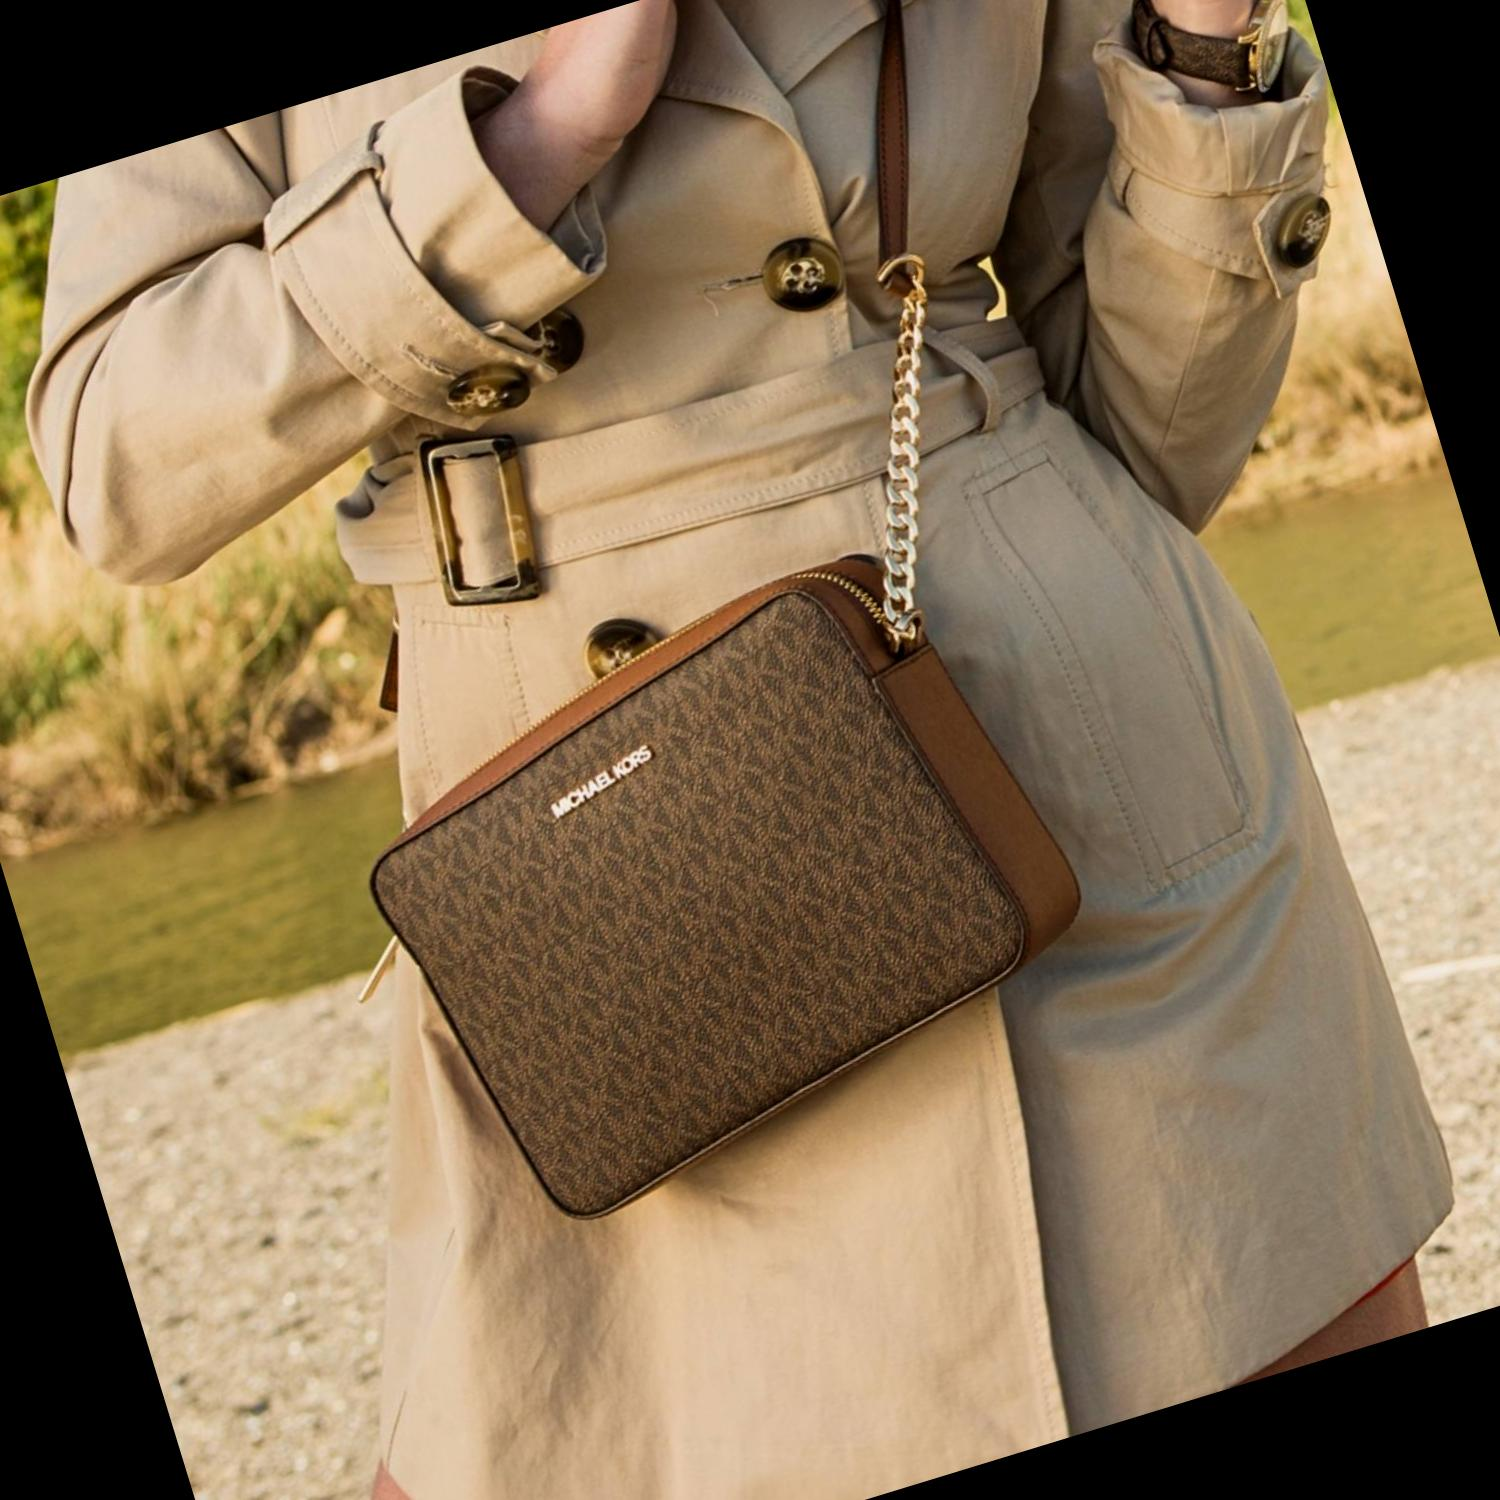MICHAEL-KORS: (541, 743, 662, 819)
